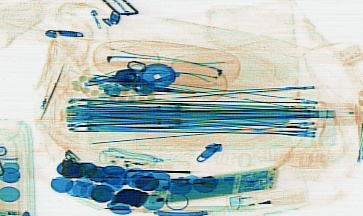lighter: (225, 189, 305, 209)
